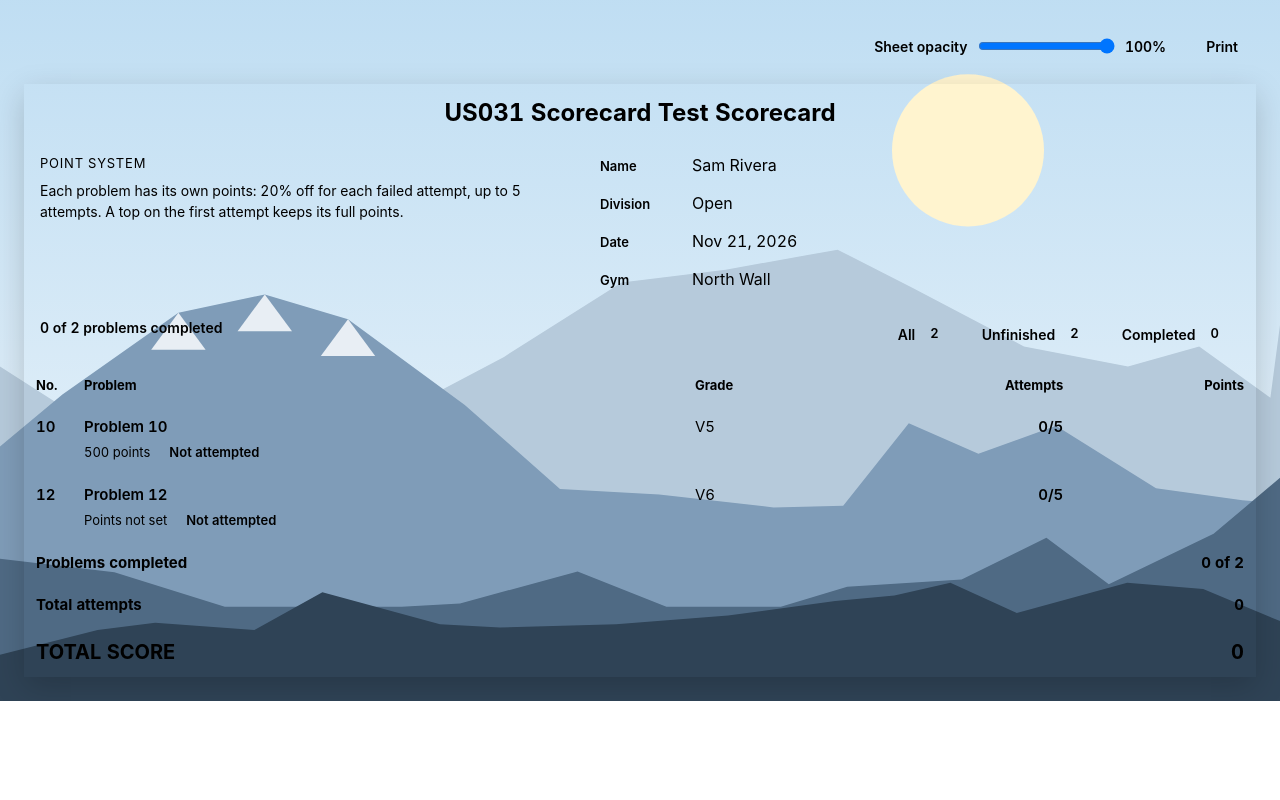
Test: US-031 filtering the sheet › says so when a filter has nothing to show, and keeps the totals
This screenshot has width=1280, height=800.
Step 1. Click the button "Completed 0" → x=1174, y=334, box [1108,312,1240,356]
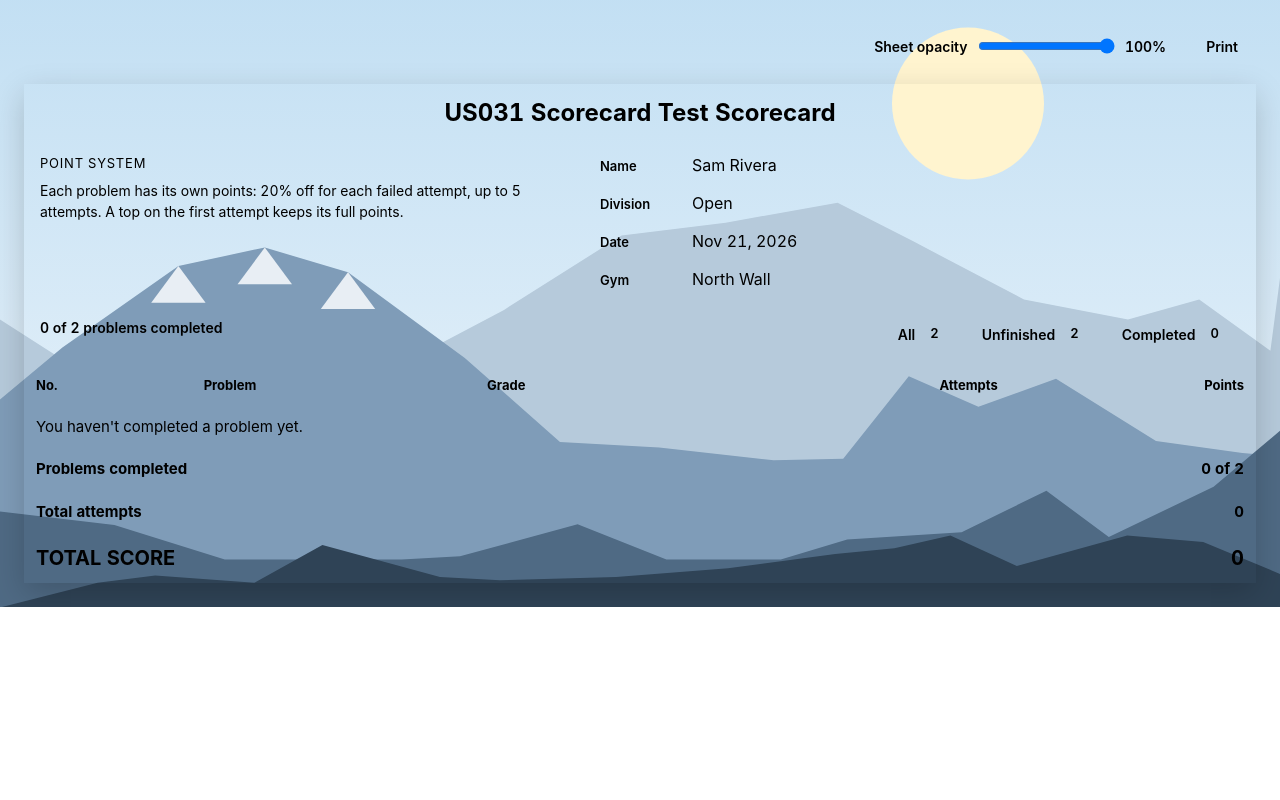
Expected: the cell "0 of 2" is shown, [1010,448,1256,490]
Result: the text "You haven't completed a problem yet." is shown at [24,406,1256,448]
